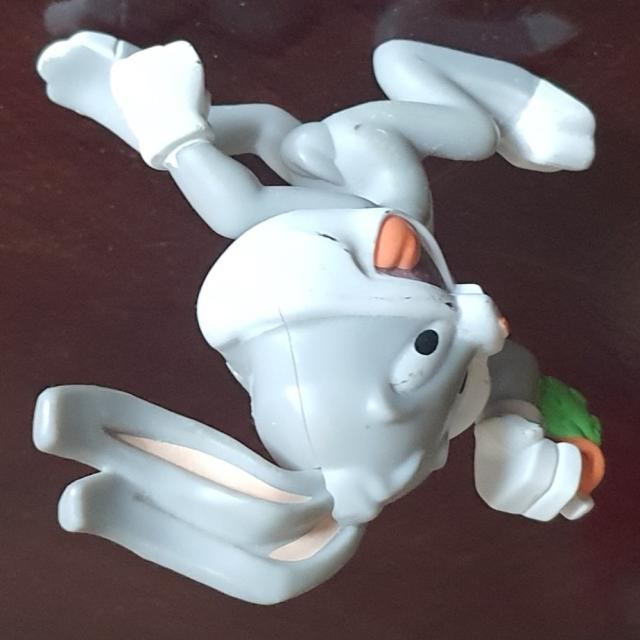Rabbit: (33, 31, 603, 604)
